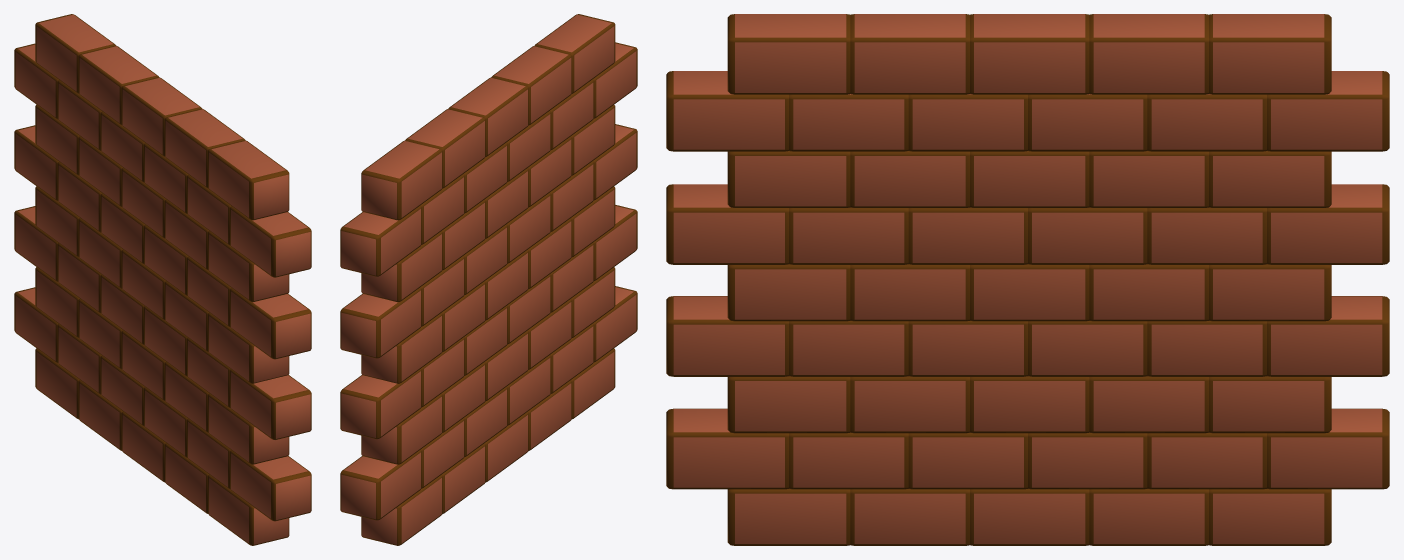
File: wall.fbx
3 renders of one model, left to right at view 1: azimuth 30°, elevation 25°; view 2: azimuth 150°, elevation 25°; view 3: azimuth 270°, elevation 25°, orthographic. The views are drawn at different scales.
Visible parts, largest first — view 1: Cube.044, Cube.034, Cube.023, Cube.001, Cube.012, Cube.048, Cube.047, Cube.046, Cube.045, Cube, Cube.011, Cube.033 (+37 smaller); view 2: Cube.048, Cube.043, Cube.032, Cube.010, Cube.021, Cube.044, Cube.047, Cube.046, Cube.045, Cube.038, Cube.005, Cube.016 (+37 smaller); view 3: Cube.044, Cube.048, Cube.045, Cube.047, Cube.046, Cube.034, Cube.001, Cube.023, Cube.043, Cube.010, Cube.012, Cube.032 (+37 smaller).
Boxes of the visible parts, x1=… form: Cube.044: x1=208, y1=140, x2=289, y2=220; Cube.034: x1=230, y1=206, x2=311, y2=277; Cube.023: x1=230, y1=288, x2=311, y2=359; Cube.001: x1=230, y1=450, x2=311, y2=521; Cube.012: x1=230, y1=369, x2=311, y2=439; Cube.048: x1=35, y1=14, x2=115, y2=93; Cube.047: x1=78, y1=45, x2=158, y2=125; Cube.046: x1=121, y1=77, x2=202, y2=156; Cube.045: x1=165, y1=108, x2=244, y2=188; Cube: x1=208, y1=475, x2=289, y2=545; Cube.011: x1=208, y1=393, x2=289, y2=464; Cube.033: x1=208, y1=231, x2=289, y2=302; Cube.048: x1=361, y1=140, x2=442, y2=220; Cube.043: x1=340, y1=205, x2=421, y2=276; Cube.032: x1=340, y1=287, x2=421, y2=358; Cube.010: x1=340, y1=449, x2=421, y2=520; Cube.021: x1=340, y1=368, x2=421, y2=439; Cube.044: x1=535, y1=14, x2=615, y2=93; Cube.047: x1=405, y1=108, x2=485, y2=188; Cube.046: x1=448, y1=77, x2=528, y2=156; Cube.045: x1=491, y1=45, x2=571, y2=125; Cube.038: x1=361, y1=231, x2=442, y2=302; Cube.005: x1=361, y1=474, x2=442, y2=545; Cube.016: x1=361, y1=393, x2=442, y2=464; Cube.044: x1=727, y1=14, x2=850, y2=94; Cube.048: x1=1209, y1=14, x2=1331, y2=94; Cube.045: x1=850, y1=14, x2=969, y2=94; Cube.047: x1=1089, y1=14, x2=1208, y2=94; Cube.046: x1=970, y1=14, x2=1089, y2=94; Cube.034: x1=666, y1=71, x2=788, y2=151; Cube.001: x1=666, y1=408, x2=788, y2=489; Cube.023: x1=666, y1=184, x2=788, y2=264; Cube.043: x1=1267, y1=71, x2=1389, y2=151; Cube.010: x1=1267, y1=408, x2=1389, y2=489; Cube.012: x1=666, y1=296, x2=788, y2=376; Cube.032: x1=1267, y1=184, x2=1389, y2=264.
Bounding box in the file's own units: 200 × 1784 × 2300.
